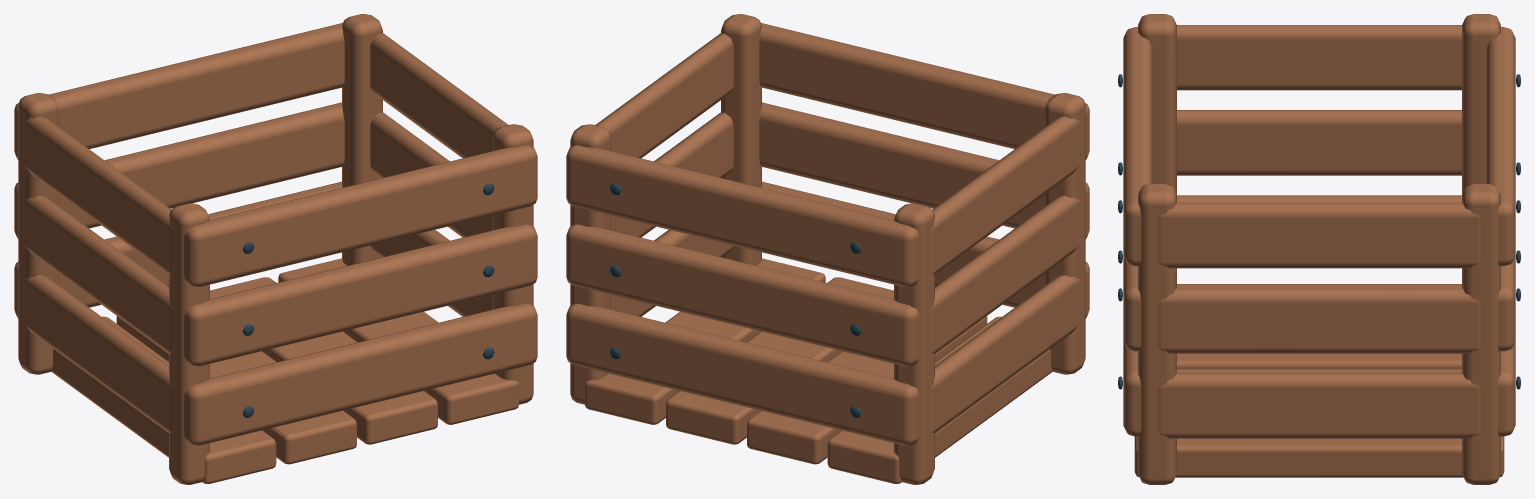
File: storybook-christmas-market-open-pine-crate-6d5aadd9__19743.glb
The picture shows the model from 3 angles, left to right: view 1: azimuth 30°, elevation 25°; view 2: azimuth 150°, elevation 25°; view 3: azimuth 270°, elevation 25°; orthographic projection. The views are drawn at different scales.
Parts seen in each view (by area): view 1: open-pine-crate; view 2: open-pine-crate; view 3: open-pine-crate.
Boxes of the visible parts, x1,y1,x2,y2 form: open-pine-crate: [14, 14, 537, 484]; open-pine-crate: [566, 14, 1089, 484]; open-pine-crate: [1118, 14, 1520, 484].
Bounding box in the file's own units: 0.685 × 0.5 × 0.6216.
